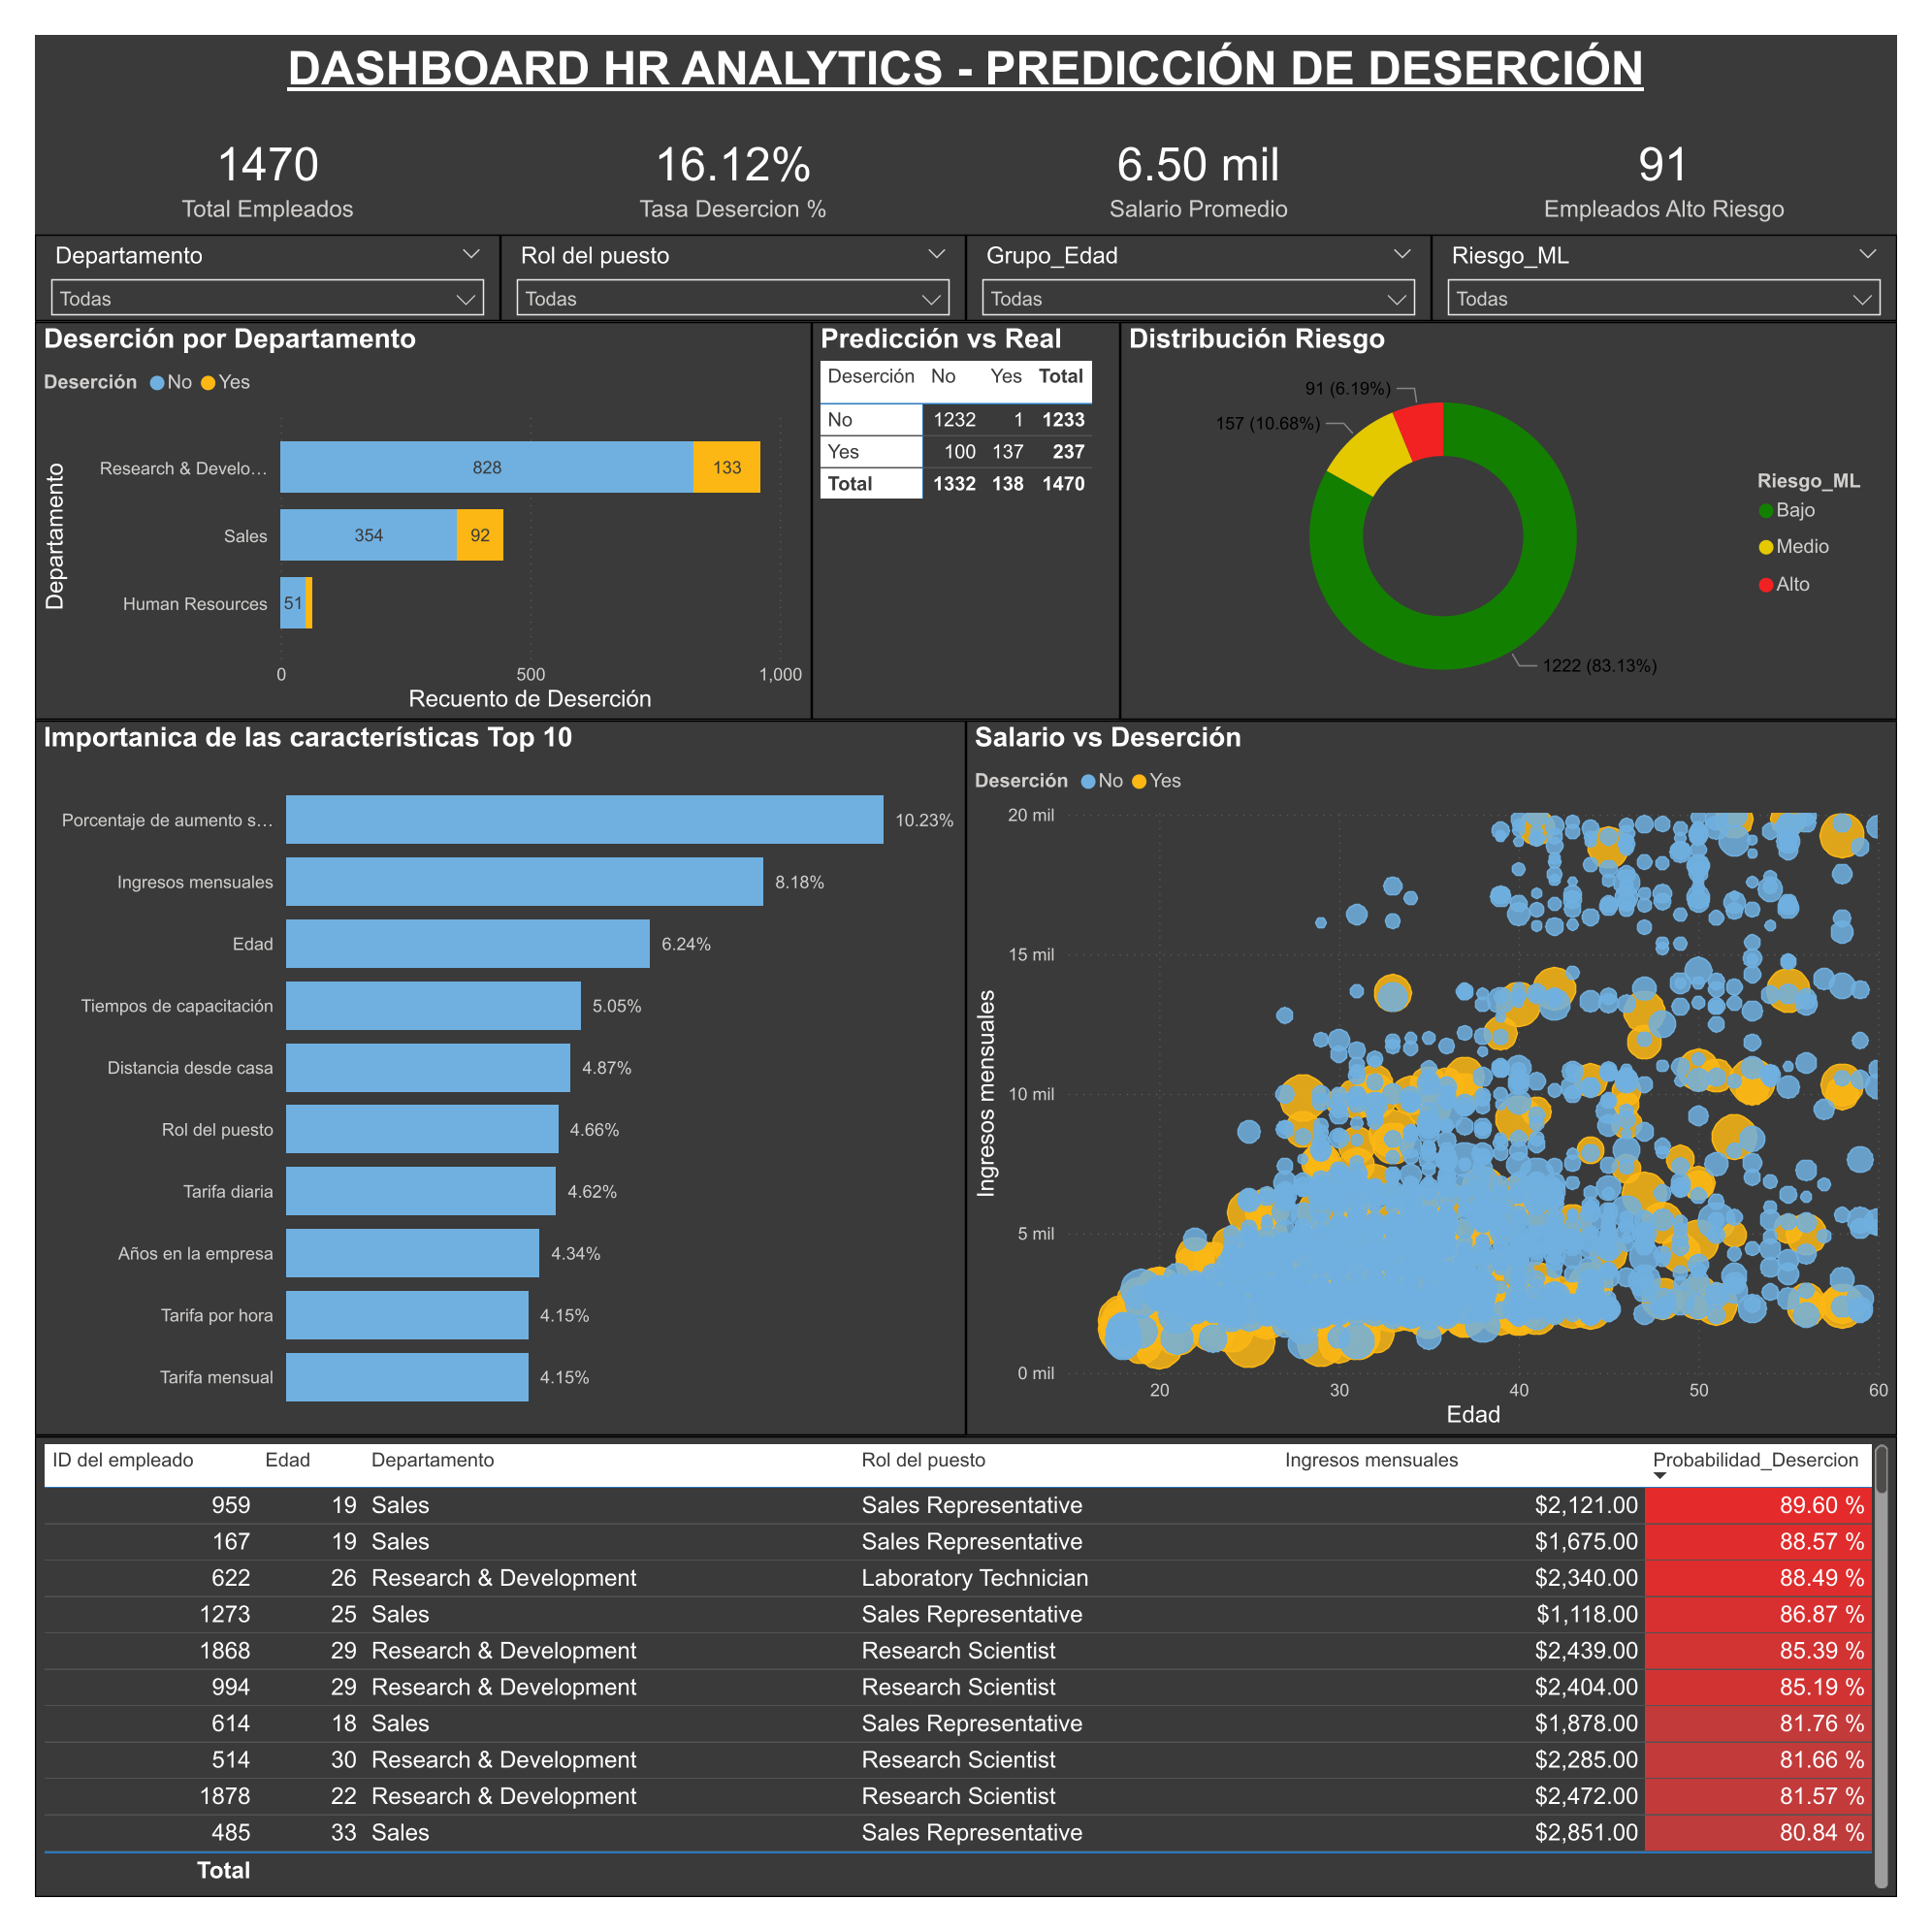

This screenshot's page, from the dashboard's own definition file:
{"tool":"powerbi","page":{"name":"Página 1","canvas":[1280,1280],"ordinal":0},"visuals":[{"type":"textbox","box":[0,0,1280,58.2],"z":0},{"type":"card","fields":{"Values":["PowerBI_Dataset_Complete.Empleados Alto Riesgo"]},"box":[960,58.2,320,76.9],"z":1000},{"type":"card","fields":{"Values":["PowerBI_Dataset_Complete.Salario Promedio"]},"box":[640,58.2,320,76.9],"z":2000},{"type":"card","fields":{"Values":["PowerBI_Dataset_Complete.Total Empleados"]},"box":[0,58.2,320,76.9],"z":3000},{"type":"card","fields":{"Values":["PowerBI_Dataset_Complete.Tasa Desercion %"]},"box":[320,58.2,320,76.9],"z":4000},{"type":"slicer","fields":{"Values":["PowerBI_Dataset_Complete.Departamento"]},"box":[0,136.7,320,60],"z":5000},{"type":"slicer","fields":{"Values":["PowerBI_Dataset_Complete.Rol del puesto"]},"box":[320,136.7,320,60],"z":6000},{"type":"slicer","fields":{"Values":["PowerBI_Dataset_Complete.Grupo_Edad"]},"box":[640,136.7,320,60],"z":7000},{"type":"slicer","fields":{"Values":["PowerBI_Dataset_Complete.Riesgo_ML"]},"box":[960,136.7,320,60],"z":8000},{"type":"barChart","title":"Deserción por Departamento","fields":{"Category":["PowerBI_Dataset_Complete.Departamento"],"Y":["CountNonNull(PowerBI_Dataset_Complete.Deserción)"],"Series":["PowerBI_Dataset_Complete.Deserción"]},"box":[0,196.2,535,275],"z":9000},{"type":"pivotTable","title":"Predicción vs Real","fields":{"Rows":["PowerBI_Dataset_Complete.Deserción"],"Columns":["PowerBI_Dataset_Complete.Prediccion_ML"],"Values":["CountNonNull(PowerBI_Dataset_Complete.Deserción)"]},"box":[535,196.2,210,275],"z":10000},{"type":"scatterChart","title":"Salario vs Deserción","fields":{"Series":["PowerBI_Dataset_Complete.Deserción"],"Size":["Sum(PowerBI_Dataset_Complete.Probabilidad_Desercion)"],"Y":["PowerBI_Dataset_Complete.Ingresos mensuales"],"X":["PowerBI_Dataset_Complete.Edad"]},"box":[640,471.1,640,492.2],"z":11000},{"type":"donutChart","title":"Distribución Riesgo","fields":{"Category":["PowerBI_Dataset_Complete.Riesgo_ML"],"Y":["CountNonNull(PowerBI_Dataset_Complete.Riesgo_ML)"]},"box":[745,196.2,535,275],"z":12000},{"type":"tableEx","fields":{"Values":["Sum(PowerBI_Dataset_Complete.Número de empleados.1)","PowerBI_Dataset_Complete.Edad","PowerBI_Dataset_Complete.Departamento","PowerBI_Dataset_Complete.Rol del puesto","PowerBI_Dataset_Complete.Ingresos mensuales","PowerBI_Dataset_Complete.Probabilidad_Desercion"]},"box":[0,963.3,1280,316.7],"z":13000},{"type":"clusteredBarChart","title":"Top 10 Variables Más Importantes","fields":{"Category":["PowerBI_FeatureImportance.Feature"],"Y":["Sum(PowerBI_FeatureImportance.Importance)"]},"box":[0,471.1,640,492.2],"z":15000}]}

Visuals, with their boxes in screenshot pixels (x1, y1, x2, y2), scaled from the page's 1280x1280 canvas onto the 1932x1932 screenshot:
textbox: (0,0,1931,88)
card - PowerBI_Dataset_Complete.Empleados Alto Riesgo: (1449,88,1931,204)
card - PowerBI_Dataset_Complete.Salario Promedio: (966,88,1449,204)
card - PowerBI_Dataset_Complete.Total Empleados: (0,88,483,204)
card - PowerBI_Dataset_Complete.Tasa Desercion %: (483,88,966,204)
slicer - PowerBI_Dataset_Complete.Departamento: (0,207,483,297)
slicer - PowerBI_Dataset_Complete.Rol del puesto: (483,207,966,297)
slicer - PowerBI_Dataset_Complete.Grupo_Edad: (966,207,1449,297)
slicer - PowerBI_Dataset_Complete.Riesgo_ML: (1449,207,1931,297)
"Deserción por Departamento" barChart: (0,296,808,711)
"Predicción vs Real" pivotTable: (808,296,1124,711)
"Salario vs Deserción" scatterChart: (966,711,1931,1454)
"Distribución Riesgo" donutChart: (1124,296,1931,711)
tableEx - Sum(PowerBI_Dataset_Complete.Número de empleados.1) x PowerBI_Dataset_Complete.Edad: (0,1454,1931,1931)
"Top 10 Variables Más Importantes" clusteredBarChart: (0,711,966,1454)
